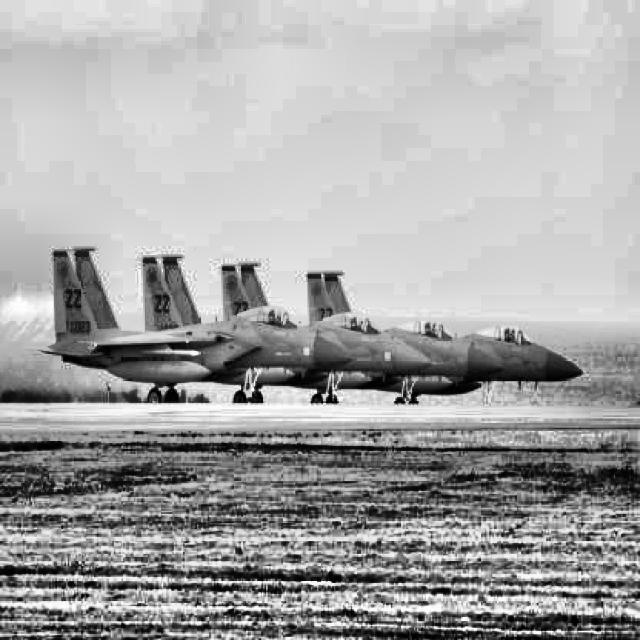F15: (22, 244, 356, 402), (140, 253, 438, 404), (218, 261, 508, 405), (297, 270, 583, 404)
